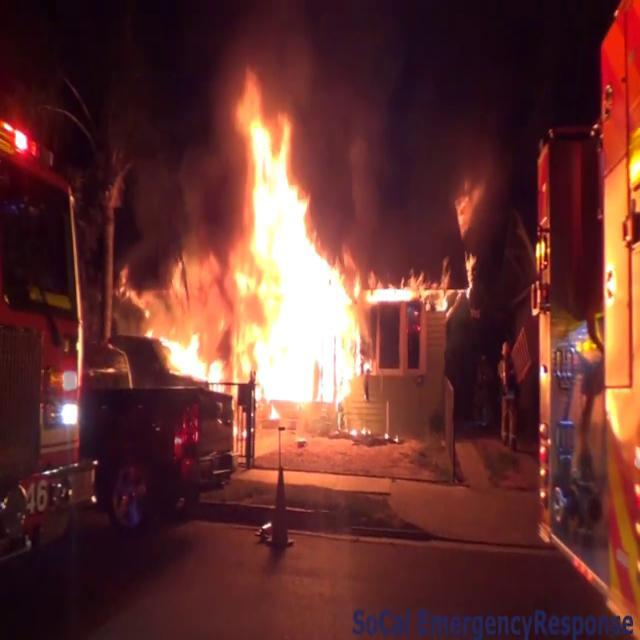Fire: (154, 74, 372, 420), (369, 259, 450, 312)
